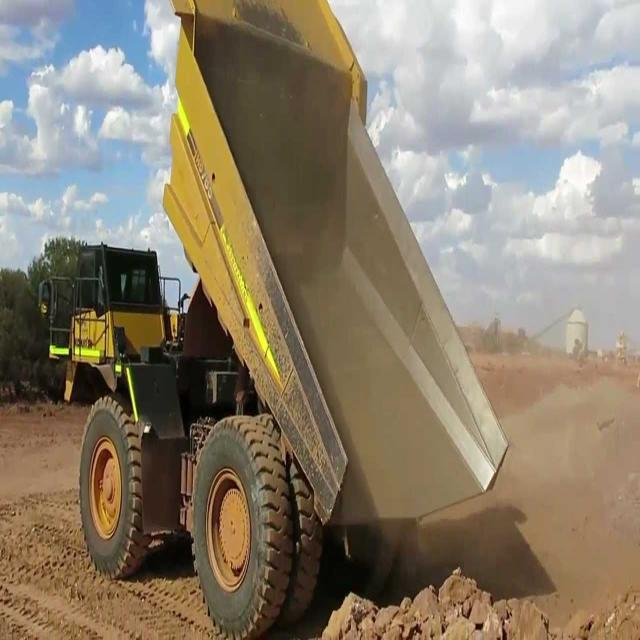dump_truck: (43, 3, 511, 631)
